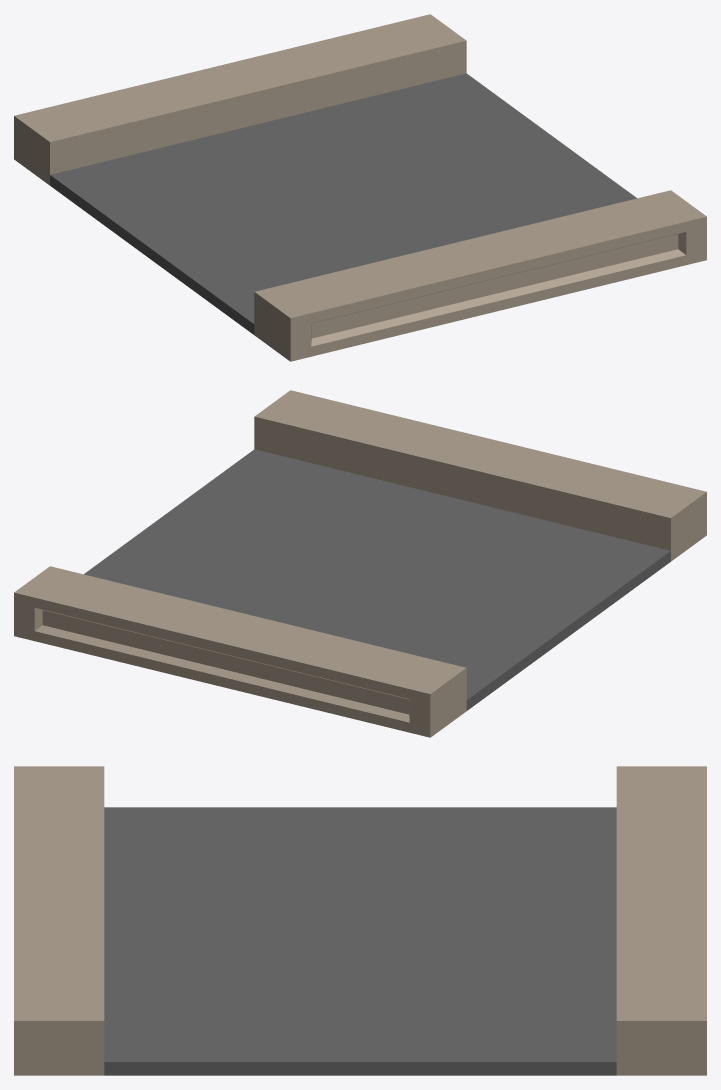
File: roof_4x4_2sided1.fbx
3 views of the same model, one above another, from view 1: azimuth 30°, elevation 25°; view 2: azimuth 150°, elevation 25°; view 3: azimuth 270°, elevation 25° (orthographic). The views are drawn at different scales.
Parts seen in each view (by area): view 1: Cube; view 2: Cube; view 3: Cube.
Boxes of the visible parts, <box> form: Cube: <box>14,14,706,361</box>; Cube: <box>14,390,706,737</box>; Cube: <box>14,766,706,1075</box>.
Bounding box in the file's own units: 400 × 40 × 460.
